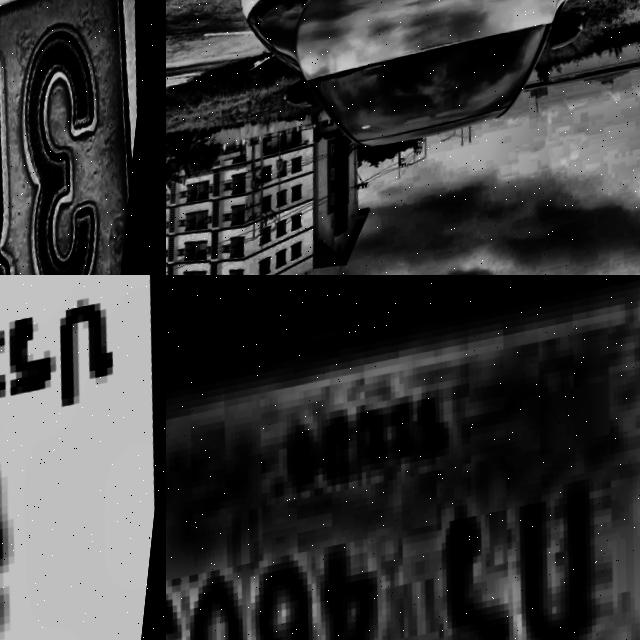license-plate: (166, 275, 640, 640), (0, 275, 166, 640), (0, 0, 166, 275)
